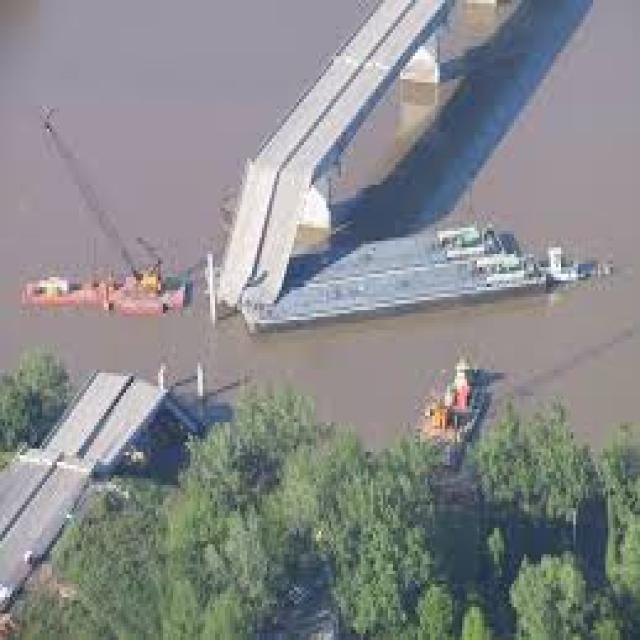bridge collapse: (28, 55, 410, 588)
